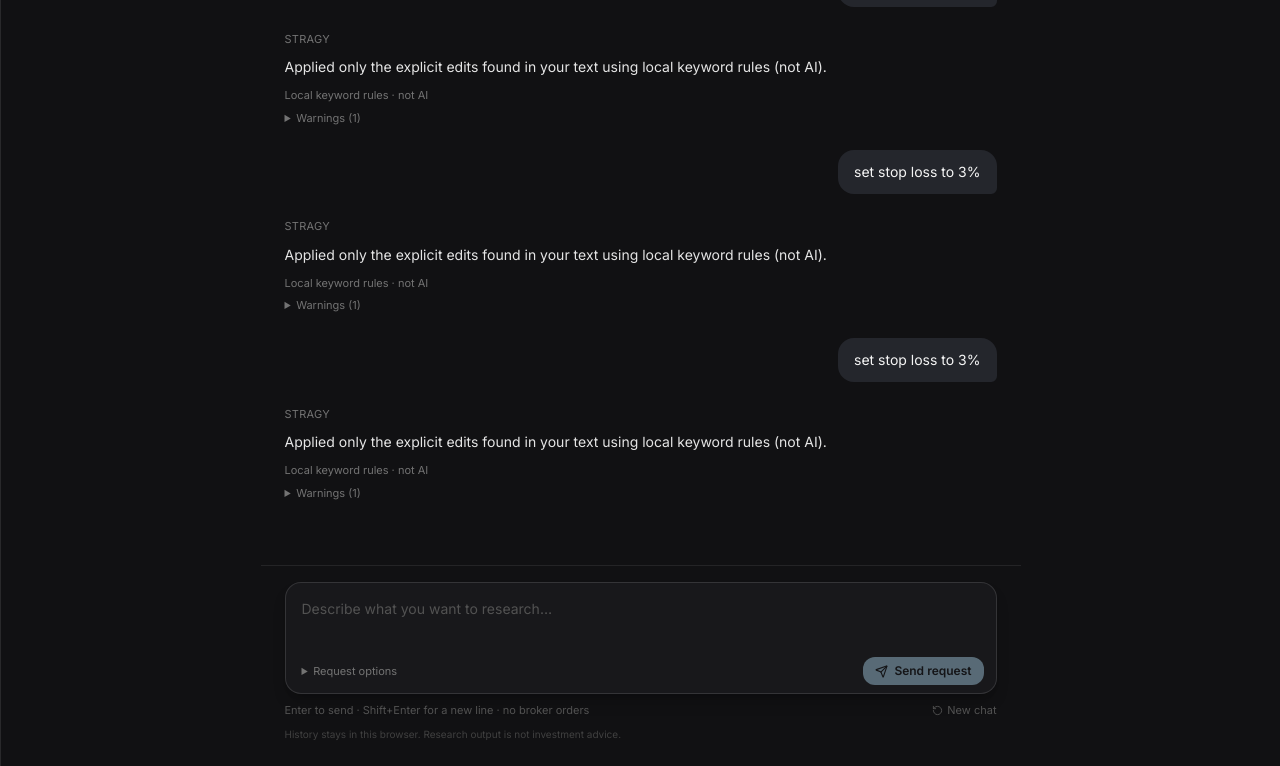
Scenario: proposal dock review and explicit actions › rejects the former string provider and stale revision
(page scrolled)
Type "set stop loss to 3%" into the text box named "Research request" at coordinates (640, 621), box [298, 591, 984, 651]
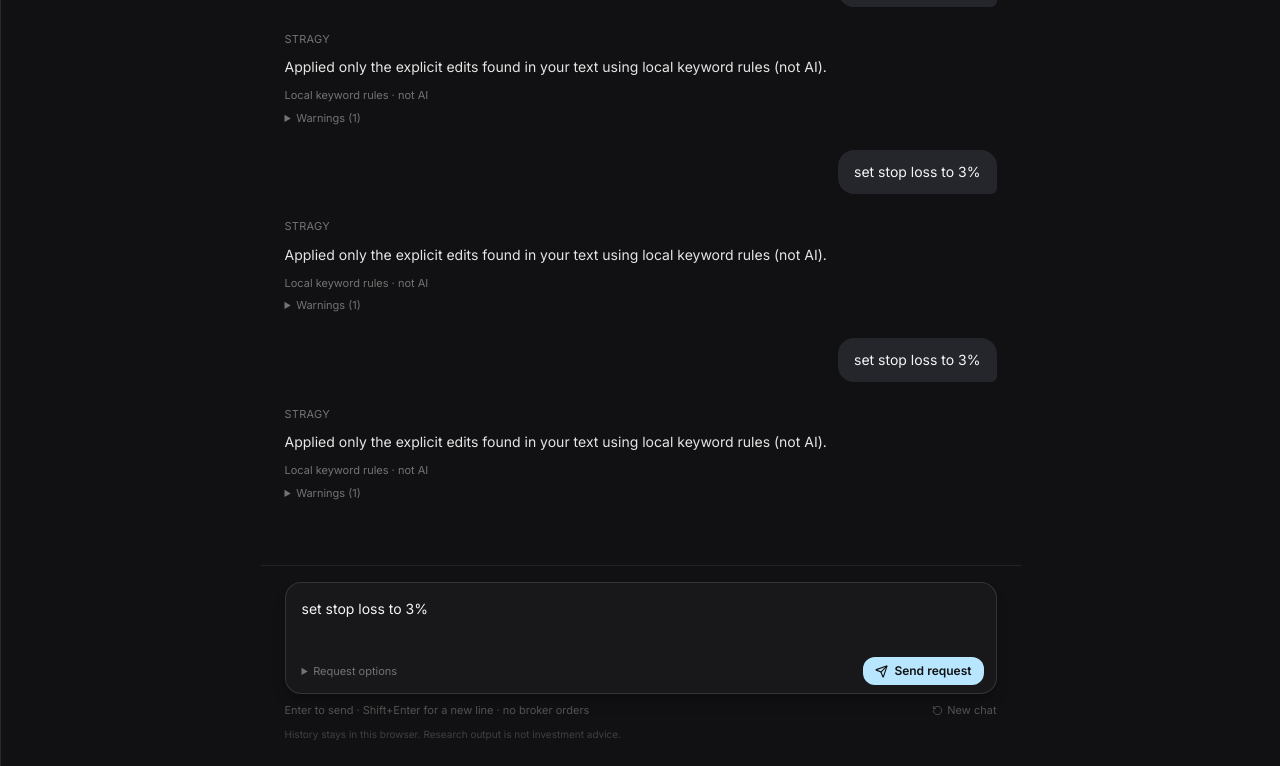
Click the button "Send request" at coordinates (923, 671), box [863, 657, 984, 685]
(page scrolled)
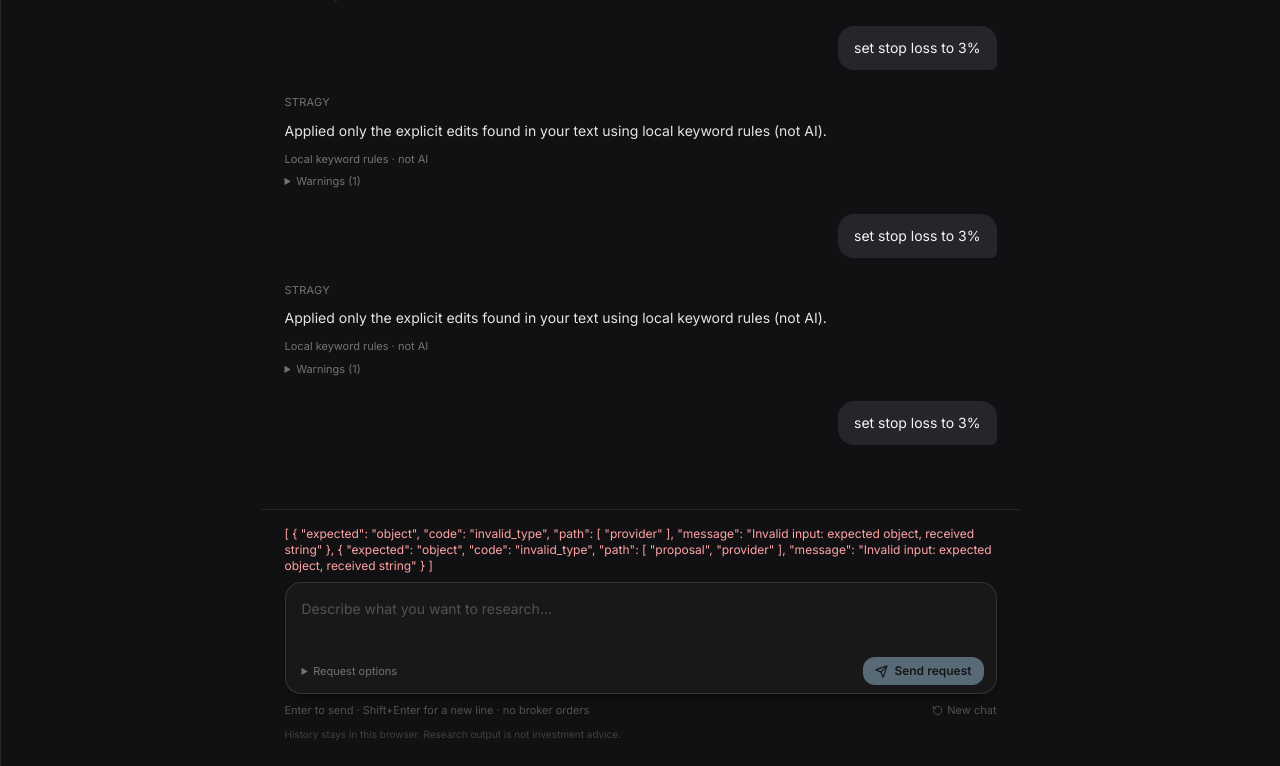
Result: the message is shown at [284, 526, 996, 574]
Type "set stop loss to 3%" into the text box named "Research request" at coordinates (640, 621), box [298, 591, 984, 651]
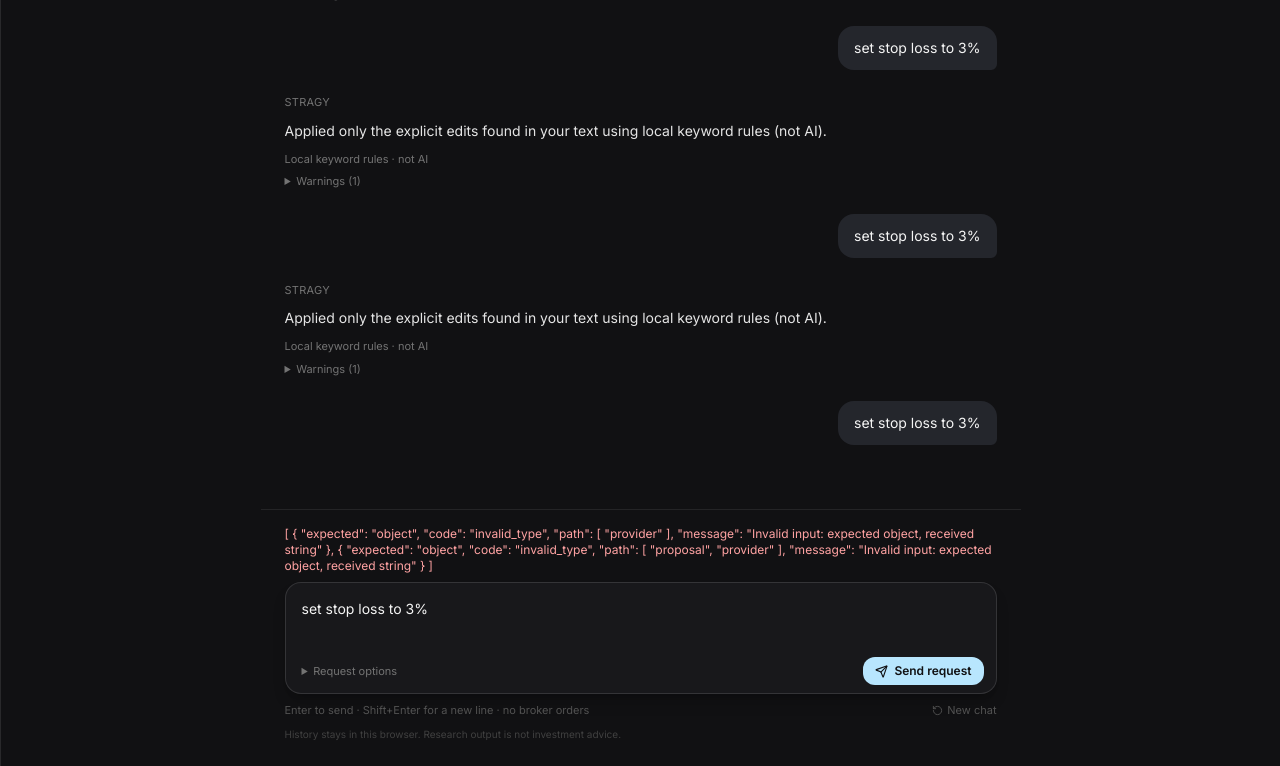
Click the button "Send request" at coordinates (923, 671), box [863, 657, 984, 685]
(page scrolled)
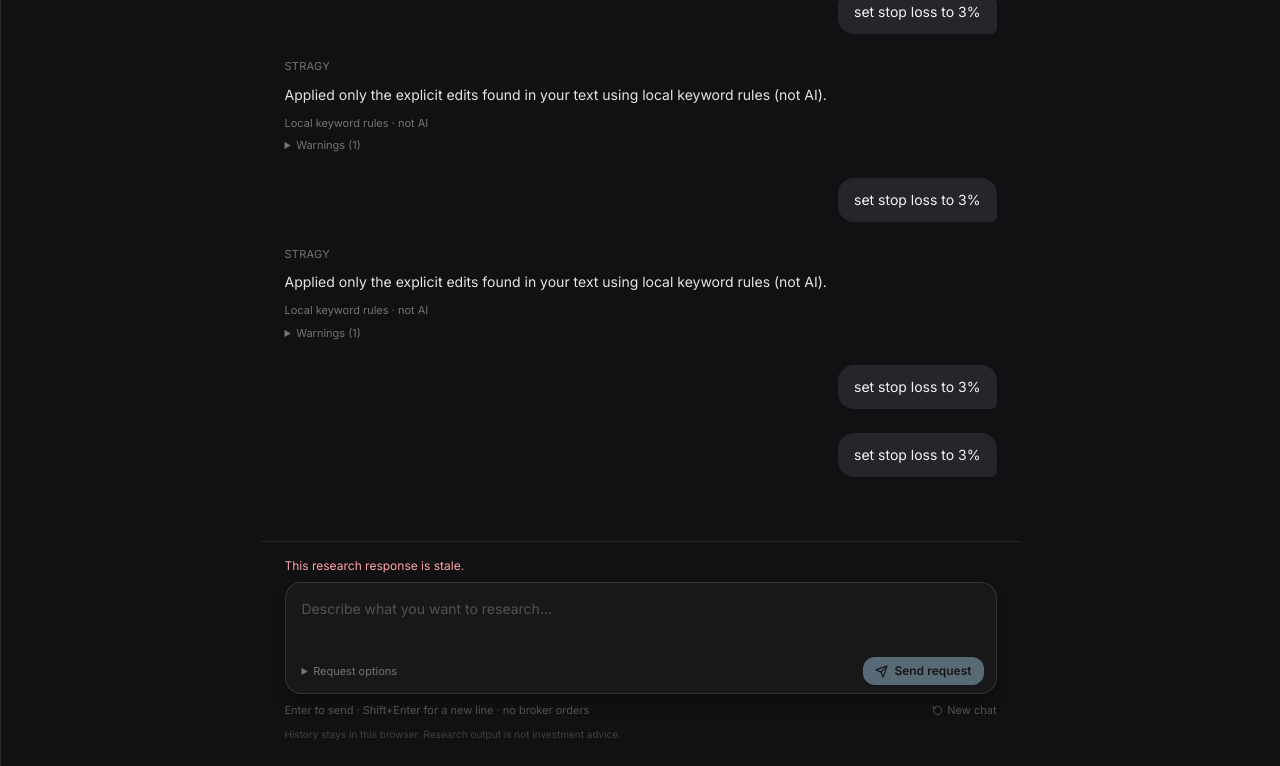
Result: the message shows "stale" at [284, 558, 464, 573]
